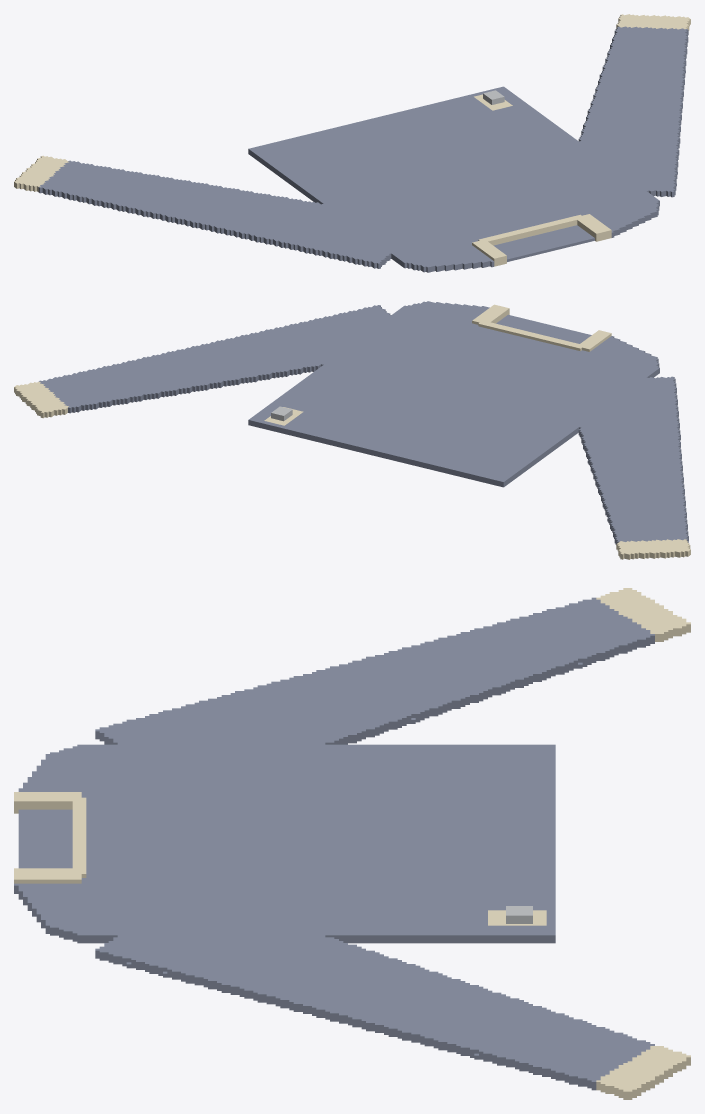
File: lame_saber.glb
The picture shows the model from 3 angles, top to bottom: view 1: azimuth 30°, elevation 25°; view 2: azimuth 150°, elevation 25°; view 3: azimuth 270°, elevation 25°; orthographic projection. The views are drawn at different scales.
Parts seen in each view (by area): view 1: lame_saber:compound; view 2: lame_saber:compound; view 3: lame_saber:compound.
Part boxes in pixels (bbox=[...]): lame_saber:compound: bbox=[14, 14, 690, 272]; lame_saber:compound: bbox=[14, 301, 690, 559]; lame_saber:compound: bbox=[14, 588, 690, 1099].
Bounding box in the file's own units: 1.06 × 0.016 × 0.6.
